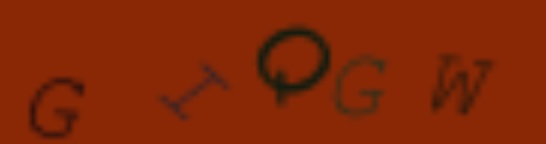G: (24, 74, 88, 141), (330, 56, 393, 116)
I: (157, 60, 234, 122)
Q: (255, 24, 334, 107)
W: (426, 50, 496, 116)
